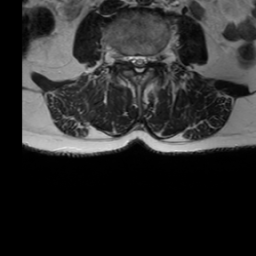CCS_normal: (134, 46, 142, 79)
LFS_normal: (149, 46, 157, 70)
LLS_stenosis: (142, 47, 149, 73)
RFS_normal: (121, 46, 128, 70)
RLS_normal: (128, 46, 135, 72)
